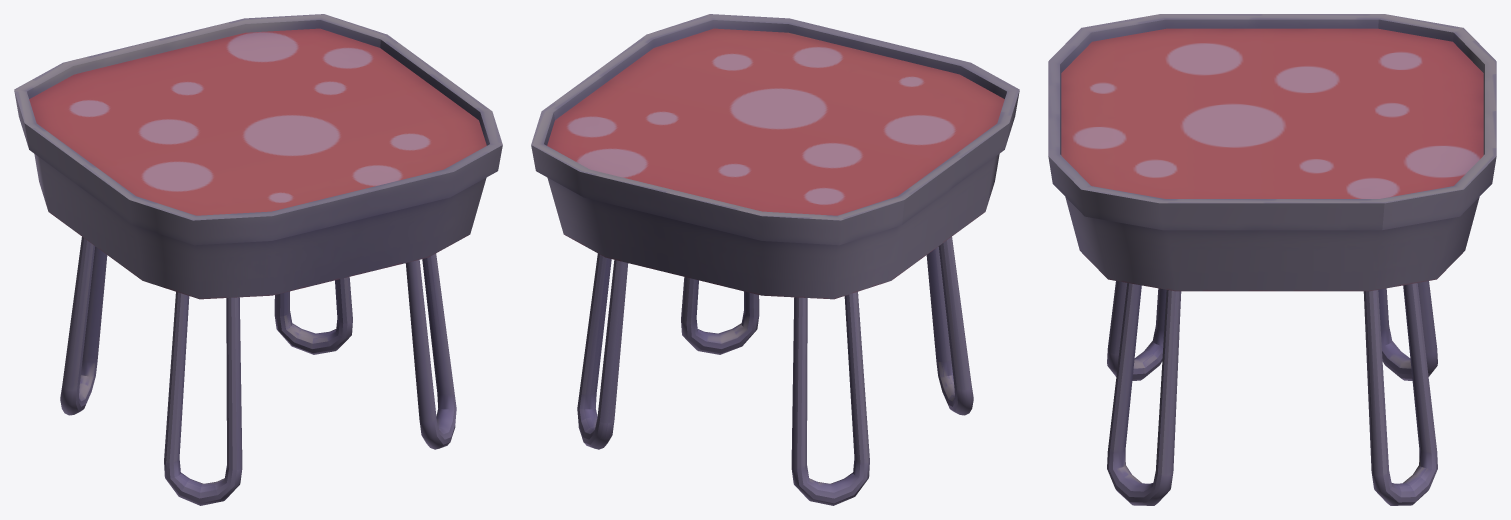
Rendered from Table_mesh.fbx.
The picture shows the model from 3 angles, left to right: view 1: azimuth 30°, elevation 25°; view 2: azimuth 150°, elevation 25°; view 3: azimuth 270°, elevation 25°; orthographic projection. The views are drawn at different scales.
Visible parts, largest first — view 1: polySurface264; view 2: polySurface264; view 3: polySurface264.
Part boxes in pixels (x1=…): polySurface264: x1=14, y1=14, x2=502, y2=505; polySurface264: x1=531, y1=14, x2=1019, y2=505; polySurface264: x1=1048, y1=14, x2=1496, y2=505.
Size of the model in its own units: 3.93 by 3.23 by 3.93.
